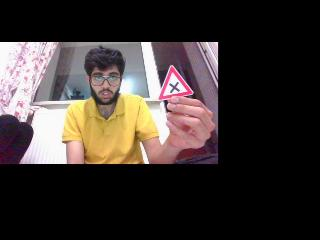intersection: (161, 68, 191, 98)
